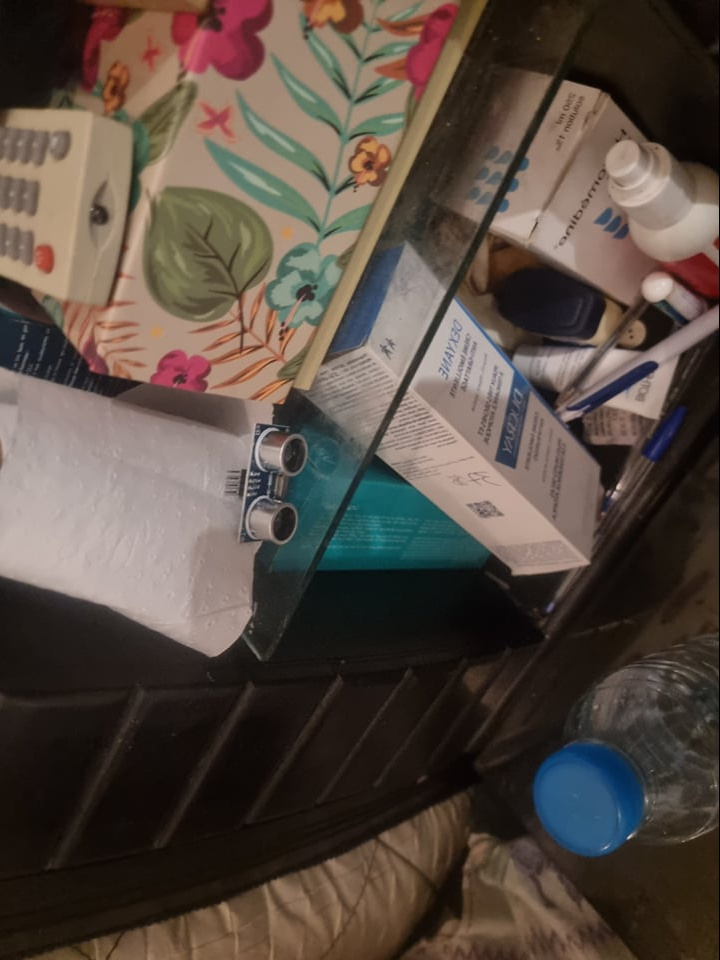SENSOR: (244, 423, 312, 546)
